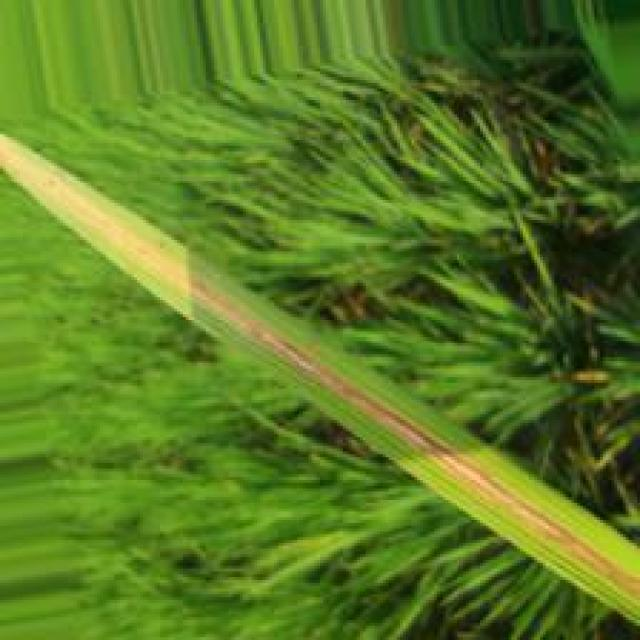Rice Tungro: (147, 258, 640, 607)
